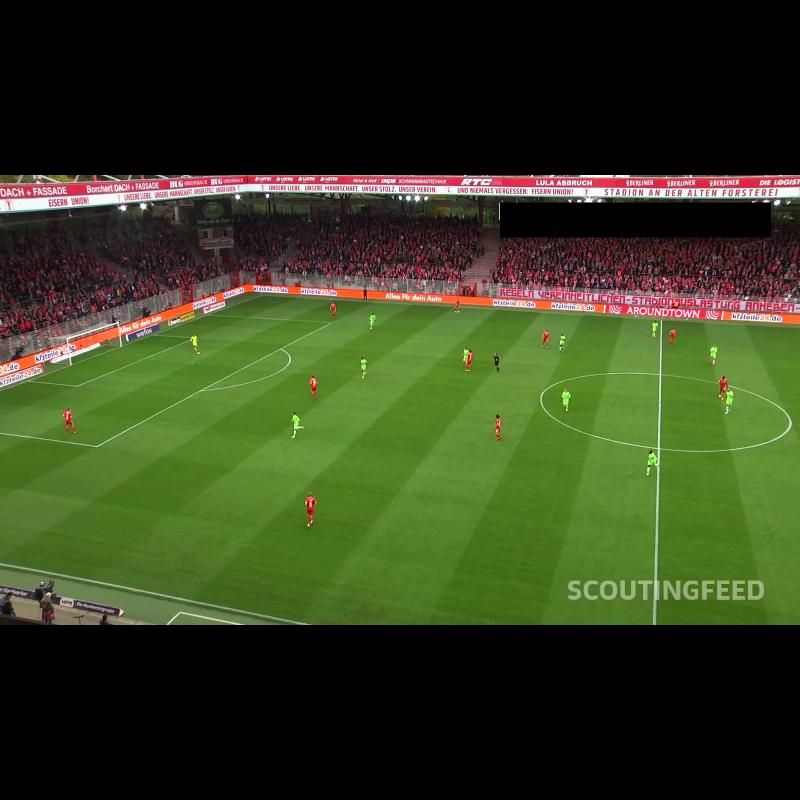cross_recipient_zone: (0, 315, 332, 446)
crossing_player_zone: (0, 432, 234, 580), (207, 296, 454, 327)
pitch: (0, 296, 800, 625)
